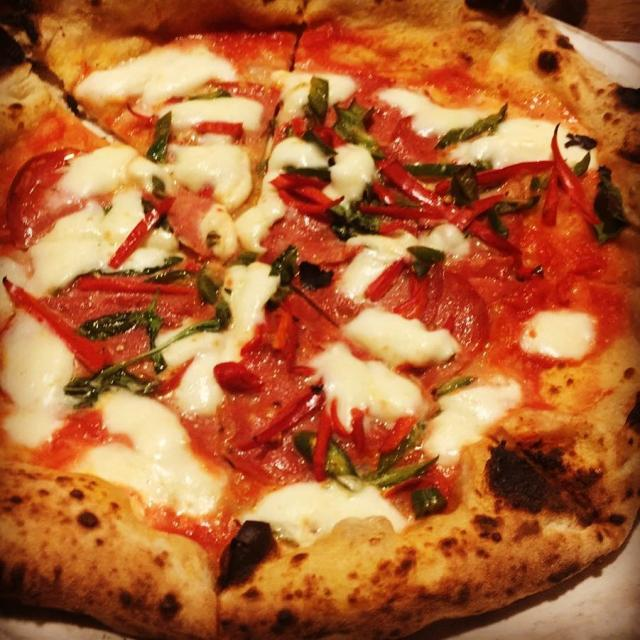pizza: (0, 0, 640, 640)
tomatoes: (414, 273, 484, 379), (10, 149, 84, 235), (230, 358, 305, 436), (57, 280, 199, 320), (259, 209, 345, 269), (110, 318, 160, 374)
